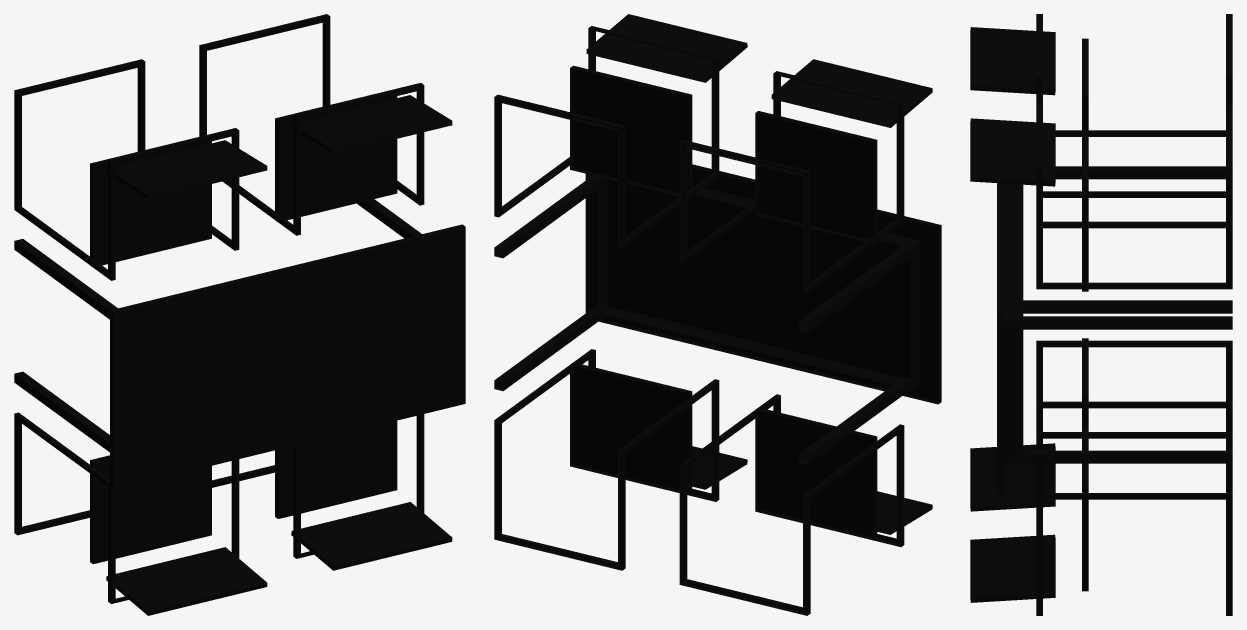
File: tablenchairs378_wtf.obj
3 views of the same model, side by side, from view 1: azimuth 30°, elevation 25°; view 2: azimuth 150°, elevation 25°; view 3: azimuth 270°, elevation 25° (orthographic).
Visible parts, largest first — view 1: group3, group4; view 2: group3, group4; view 3: group4, group3.
Boxes of the visible parts, <box> form: group3: <box>93,95,465,611</box>; group4: <box>14,14,465,615</box>; group3: <box>573,14,938,537</box>; group4: <box>494,26,941,615</box>; group4: <box>970,14,1232,615</box>; group3: <box>970,27,1055,598</box>.
Size of the model in its own units: 550 by 660 by 351.
